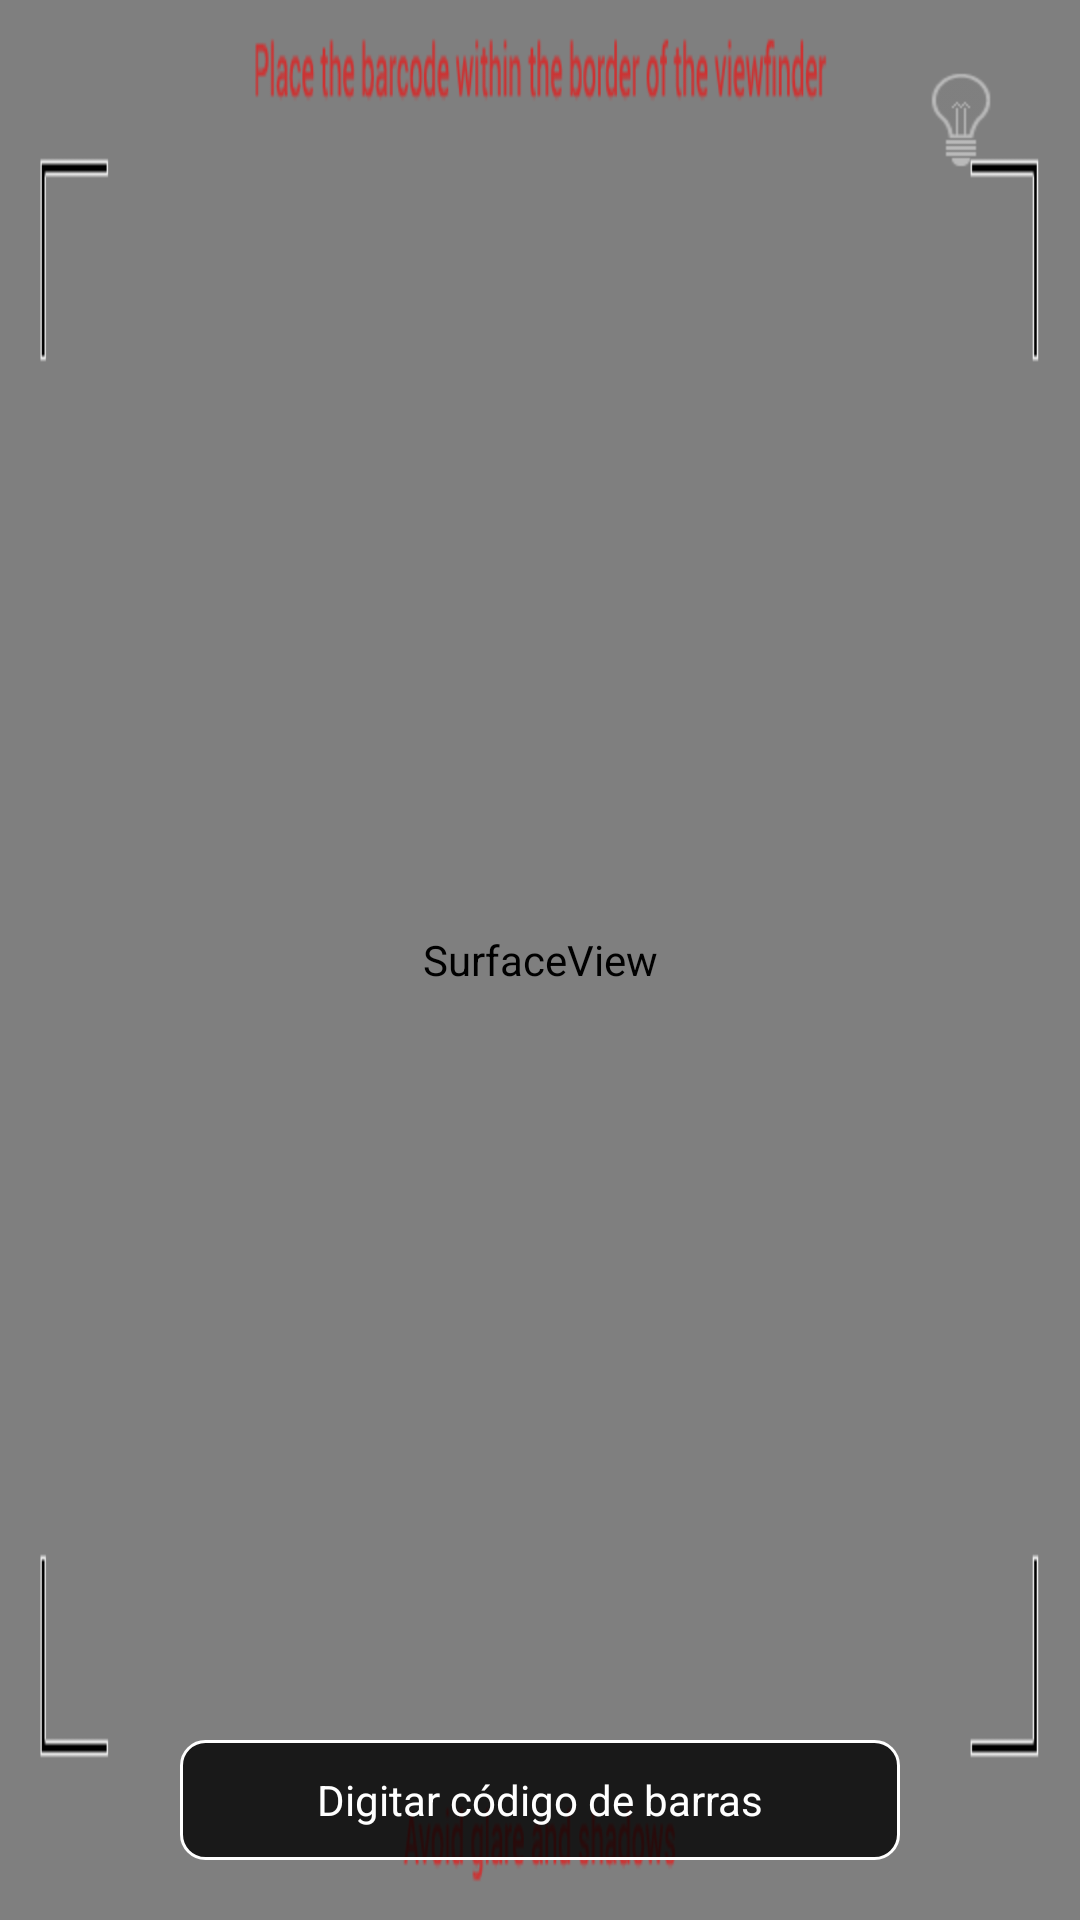

Where to tap for icons on this 1080px x 1920px app screen, as (x,y):
flashbuttonoff: (961,115)
